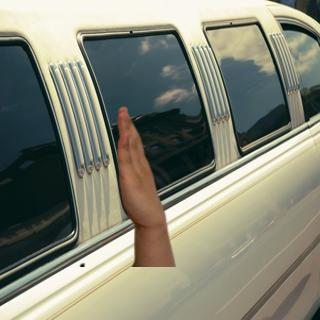RIGHT: (109, 101, 167, 230)
